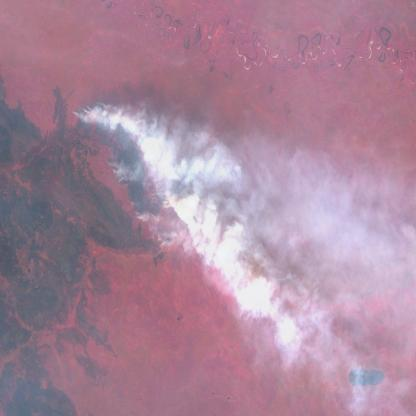fire: (67, 91, 187, 255)
